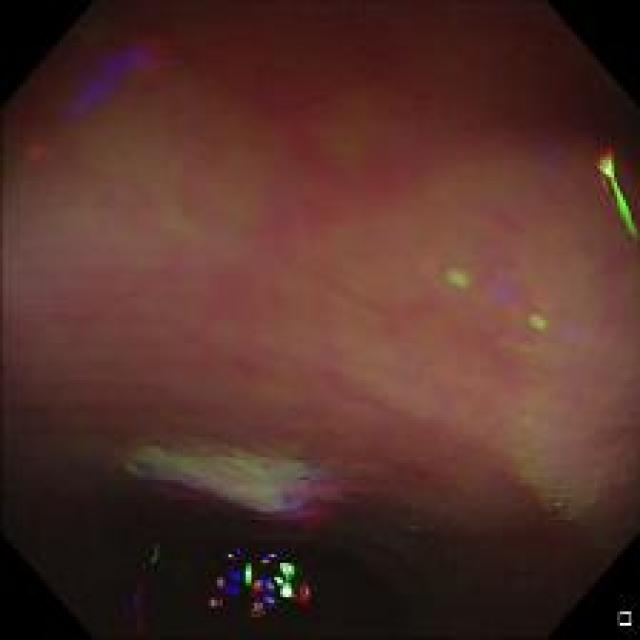bubbles: (508, 452, 606, 526)
color misalignment: (118, 429, 350, 532), (200, 542, 320, 621), (64, 48, 161, 124), (484, 275, 574, 346), (591, 140, 638, 249), (119, 580, 156, 635), (440, 261, 471, 290), (21, 139, 55, 159)
contrast: (6, 435, 635, 634)
